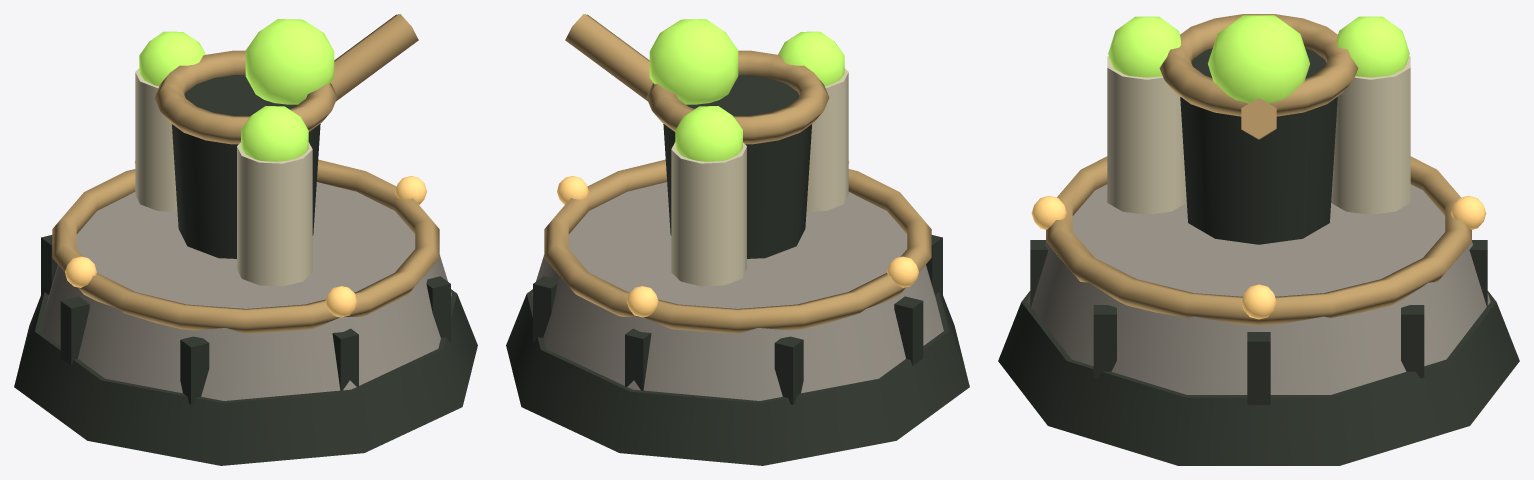
The model's file is tower_poison_poisonGland.glb.
The picture shows the model from 3 angles, left to right: view 1: azimuth 30°, elevation 25°; view 2: azimuth 150°, elevation 25°; view 3: azimuth 270°, elevation 25°; orthographic projection. The views are drawn at different scales.
Visible parts, largest first — view 1: stone_1, foot_0, rim_2, vessel_15, flask_20, gland_19, vessel_lip_17, flask_22, needle_18, poison_reservoir_21, poison_reservoir_23, mortar_6 (+7 smaller); view 2: stone_1, foot_0, rim_2, vessel_15, flask_22, gland_19, vessel_lip_17, flask_20, needle_18, poison_reservoir_23, poison_reservoir_21, mortar_8 (+7 smaller); view 3: stone_1, foot_0, vessel_15, rim_2, flask_20, flask_22, vessel_lip_17, gland_19, poison_reservoir_21, poison_reservoir_23, mortar_3, mortar_4 (+7 smaller).
Boxes of the visible parts, <box> form: stone_1: <box>40,182,451,400</box>; foot_0: <box>14,289,477,465</box>; rim_2: <box>52,159,439,333</box>; vessel_15: <box>172,75,320,258</box>; flask_20: <box>237,142,312,286</box>; gland_19: <box>245,19,334,104</box>; vessel_lip_17: <box>154,50,337,144</box>; flask_22: <box>135,68,177,211</box>; needle_18: <box>330,14,418,101</box>; poison_reservoir_21: <box>241,106,308,161</box>; poison_reservoir_23: <box>139,31,205,86</box>; mortar_6: <box>180,336,209,404</box>; stone_1: <box>532,182,943,400</box>; foot_0: <box>506,289,969,465</box>; rim_2: <box>544,159,931,333</box>; vessel_15: <box>663,75,811,258</box>; flask_22: <box>671,142,746,286</box>; gland_19: <box>649,19,738,104</box>; vessel_lip_17: <box>646,50,829,144</box>; flask_20: <box>806,68,848,211</box>; needle_18: <box>565,14,653,101</box>; poison_reservoir_23: <box>675,106,742,161</box>; poison_reservoir_21: <box>778,31,844,86</box>; mortar_8: <box>774,336,803,404</box>; stone_1: <box>1027,184,1490,394</box>; foot_0: <box>998,291,1519,465</box>; vessel_15: <box>1180,48,1337,244</box>; rim_2: <box>1046,156,1471,325</box>; flask_20: <box>1107,56,1186,214</box>; flask_22: <box>1331,56,1410,214</box>; vessel_lip_17: <box>1159,14,1358,116</box>; gland_19: <box>1208,15,1309,103</box>; poison_reservoir_21: <box>1108,16,1180,77</box>; poison_reservoir_23: <box>1337,16,1409,77</box>; mortar_3: <box>1247,332,1270,404</box>; mortar_4: <box>1093,305,1116,377</box>.
Size of the model in its own units: 0.5326 by 0.435 by 0.56.
